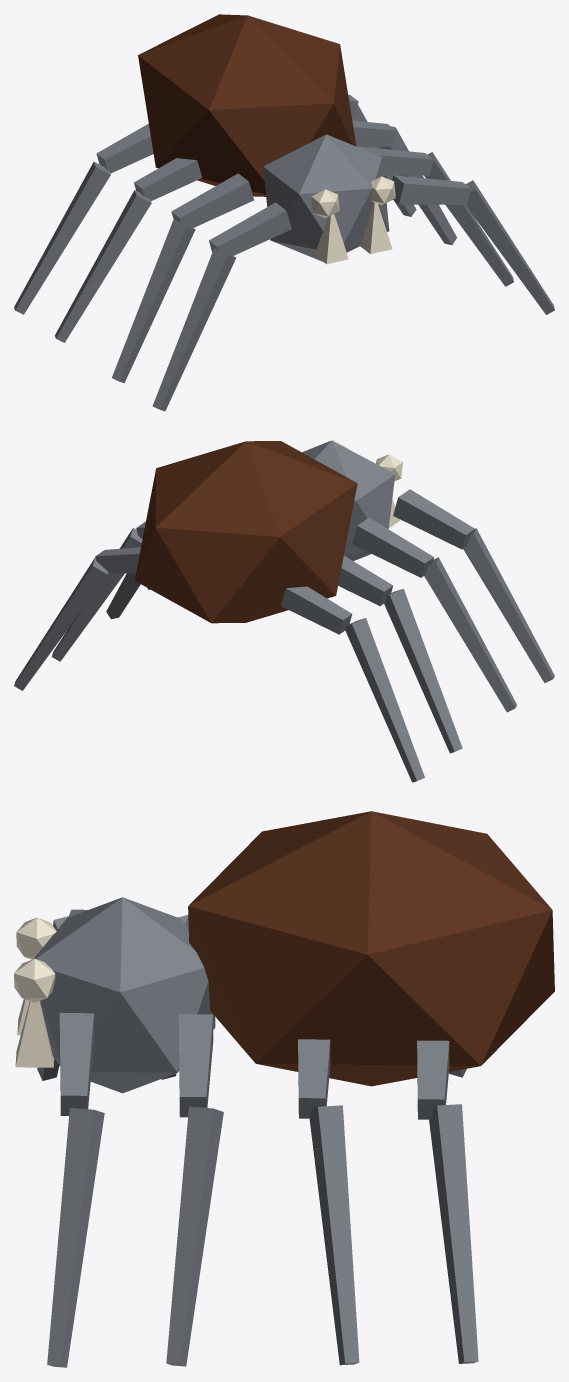
The model's file is npcpose_spider_idle_06.glb.
3 views of the same model, one above another, from view 1: azimuth 30°, elevation 25°; view 2: azimuth 150°, elevation 25°; view 3: azimuth 270°, elevation 25° (orthographic). The views are drawn at different scales.
Visible parts, largest first — view 1: npcpose; view 2: npcpose; view 3: npcpose.
Boxes of the visible parts, x1,y1,x2,y2 form: npcpose: [14, 14, 554, 411]; npcpose: [14, 440, 554, 782]; npcpose: [14, 811, 554, 1367].
Size of the model in its own units: 1.33 by 0.8391 by 0.9995.
